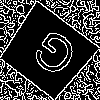G: (23, 26, 81, 88)
